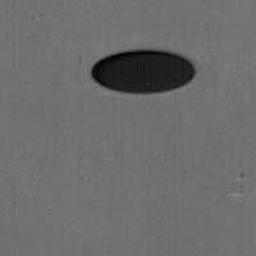Punching: (90, 50, 196, 95)
